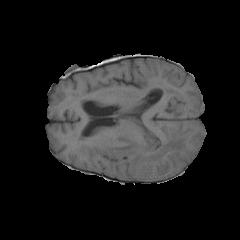glioma: (104, 121, 188, 170)
